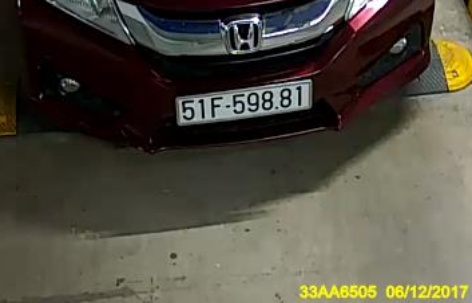plate: (171, 78, 319, 127)
